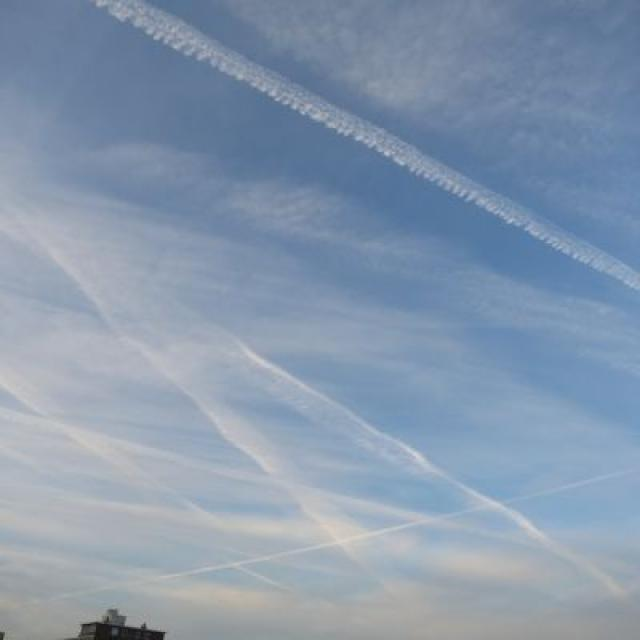Ct: (1, 1, 640, 526)
